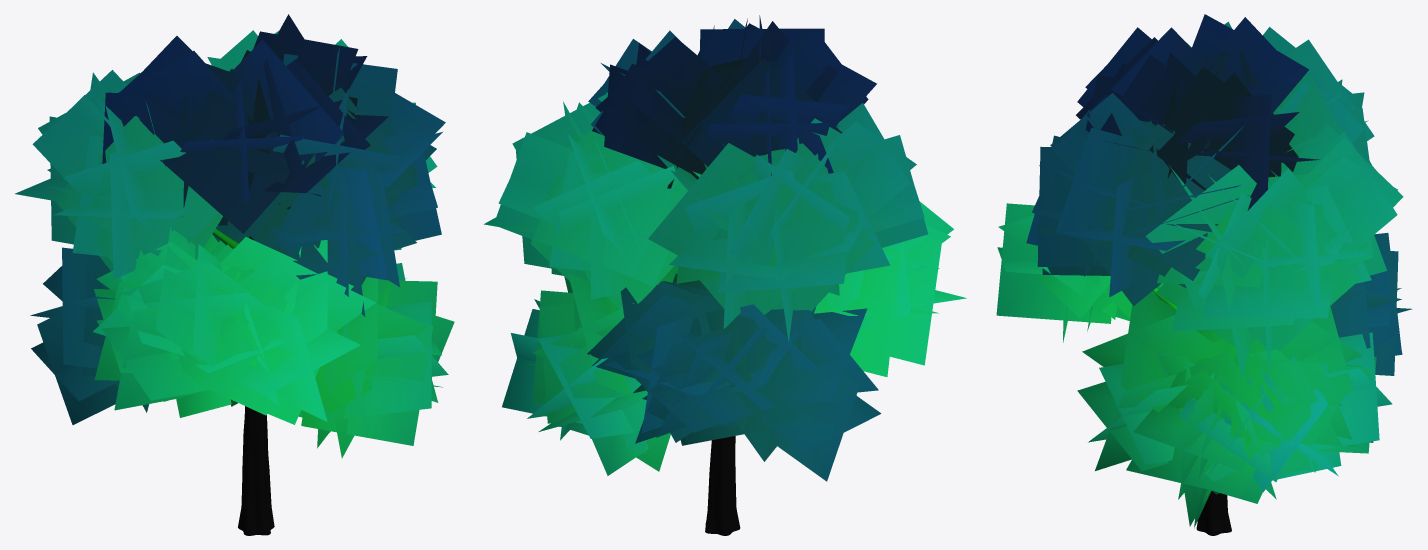
The model's file is Tree2_v3.fbx.
3 views of the same model, side by side, from view 1: azimuth 30°, elevation 25°; view 2: azimuth 150°, elevation 25°; view 3: azimuth 270°, elevation 25° (orthographic). The views are drawn at different scales.
Visible parts, largest first — view 1: Tree_1, Tree_0; view 2: Tree_1, Tree_0; view 3: Tree_1, Tree_0.
Boxes of the visible parts, <box> form: Tree_1: <box>15,14,454,458</box>; Tree_0: <box>212,229,274,535</box>; Tree_1: <box>484,15,966,481</box>; Tree_0: <box>705,436,740,535</box>; Tree_1: <box>996,14,1412,528</box>; Tree_0: <box>1152,287,1231,535</box>.
Size of the model in its own units: 380 by 475 by 364.
